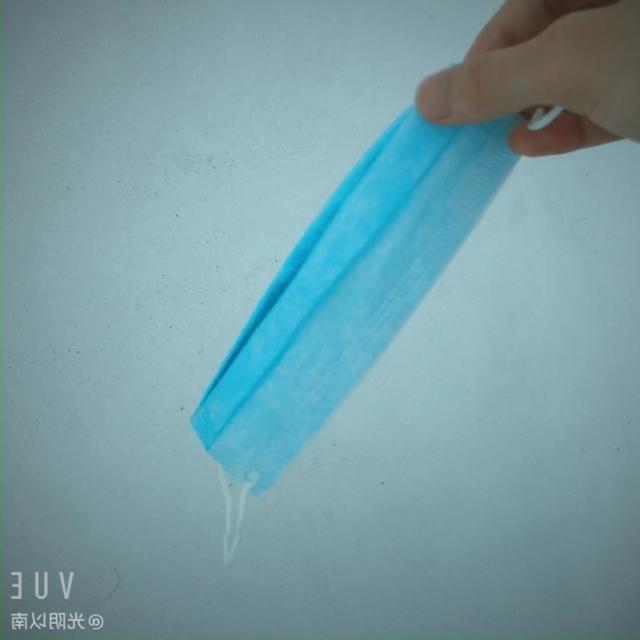face mask: (175, 51, 600, 524)
